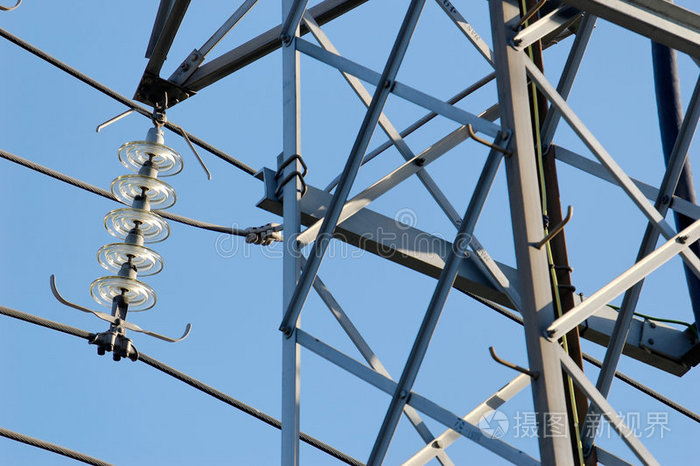insulator: (92, 138, 182, 309)
